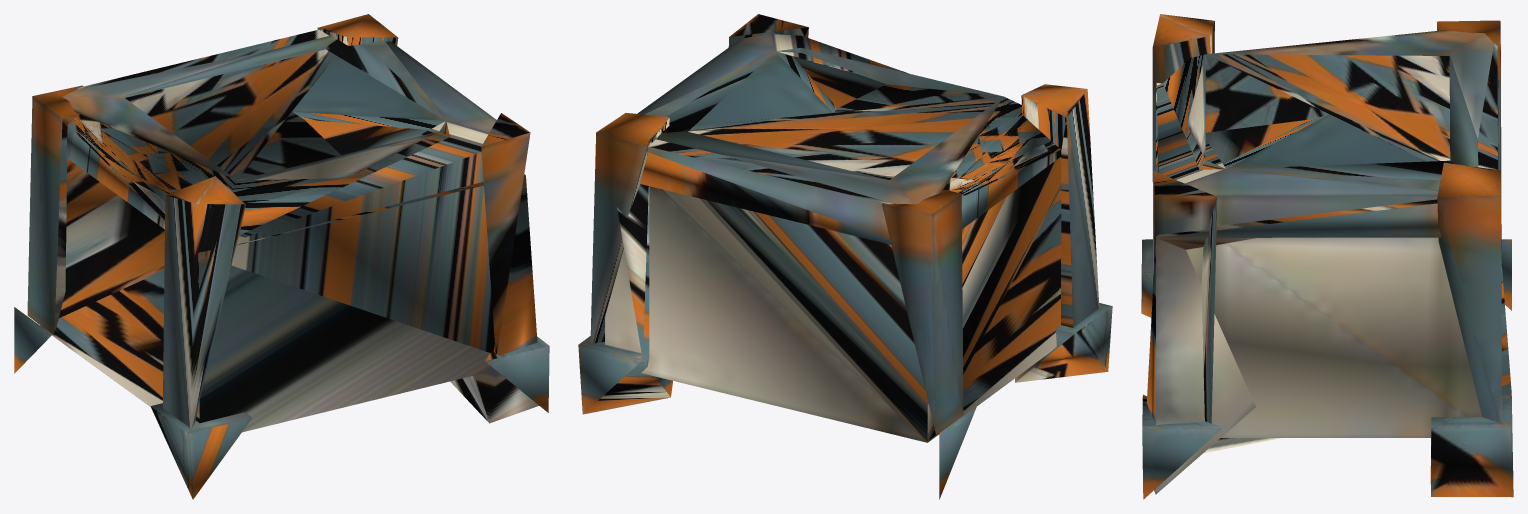
File: recovery_crate-lod1.51982539a794.glb
The picture shows the model from 3 angles, left to right: view 1: azimuth 30°, elevation 25°; view 2: azimuth 150°, elevation 25°; view 3: azimuth 270°, elevation 25°; orthographic projection. The views are drawn at different scales.
Visible parts, largest first — view 1: geometry_0; view 2: geometry_0; view 3: geometry_0.
Boxes of the visible parts, x1,y1,x2,y2 form: geometry_0: [14, 14, 549, 499]; geometry_0: [578, 14, 1112, 499]; geometry_0: [1141, 14, 1513, 499].
Size of the model in its own units: 0.9994 by 0.7592 by 0.8343.
1 material, 1 textured.
